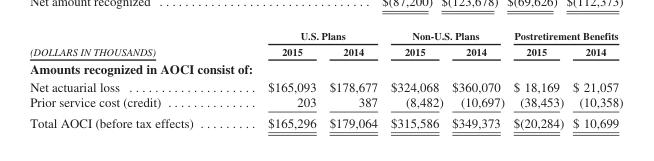table: (29, 29, 622, 129)
table column: (29, 29, 230, 129), (230, 29, 322, 129), (383, 29, 447, 129), (322, 29, 383, 129), (447, 29, 508, 129), (508, 29, 567, 129), (567, 29, 622, 129)
table column header: (29, 29, 622, 58)
table projected row header: (29, 58, 622, 77)
table row: (29, 58, 622, 77), (29, 94, 622, 112), (29, 77, 622, 94), (29, 112, 622, 129), (29, 43, 622, 58), (29, 29, 622, 43)
table spanning cell: (29, 29, 230, 58), (230, 29, 383, 43), (383, 29, 508, 43), (508, 29, 622, 43)
